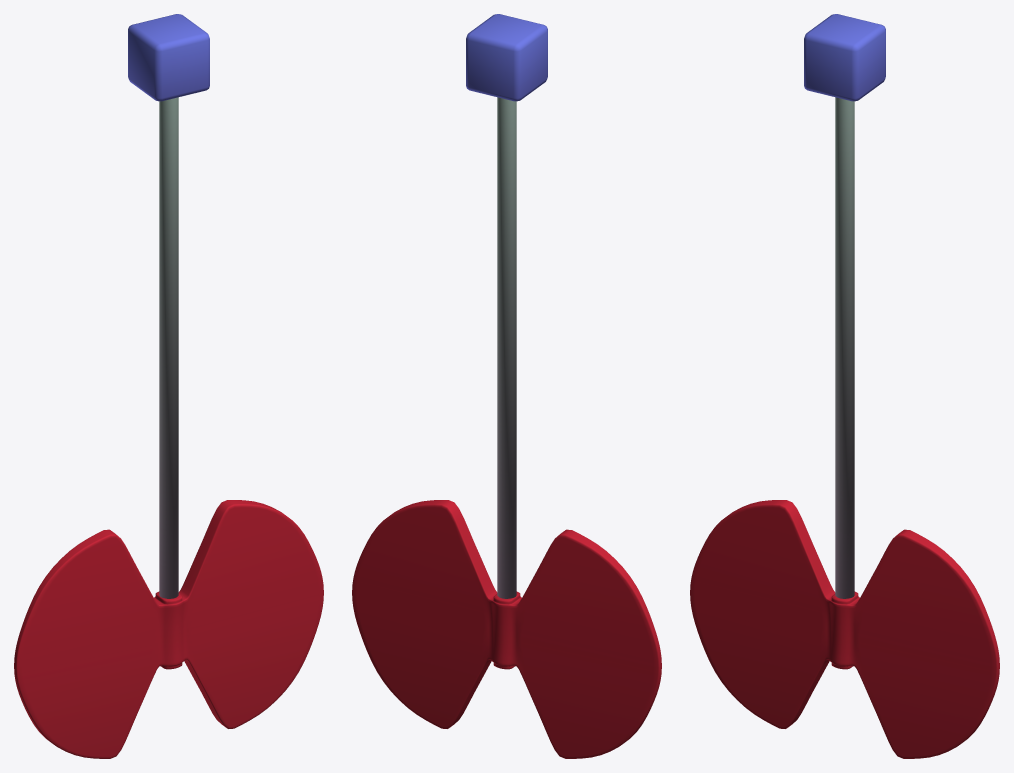
Rendered from Obs_13.fbx.
3 renders of one model, left to right at view 1: azimuth 30°, elevation 25°; view 2: azimuth 150°, elevation 25°; view 3: azimuth 330°, elevation 25°, orthographic.
Parts seen in each view (by area): view 1: Obs_13_Axe_01, Obs_13_Axe, Obs_13_Top; view 2: Obs_13_Axe_01, Obs_13_Axe, Obs_13_Top; view 3: Obs_13_Axe_01, Obs_13_Axe, Obs_13_Top.
Boxes of the visible parts, left/top/right/bottom form: Obs_13_Axe_01: left=14, top=500, right=323, bottom=758; Obs_13_Axe: left=159, top=97, right=178, bottom=598; Obs_13_Top: left=128, top=14, right=209, bottom=101; Obs_13_Axe_01: left=352, top=500, right=661, bottom=758; Obs_13_Axe: left=497, top=97, right=516, bottom=598; Obs_13_Top: left=466, top=14, right=547, bottom=101; Obs_13_Axe_01: left=690, top=500, right=999, bottom=758; Obs_13_Axe: left=835, top=97, right=854, bottom=598; Obs_13_Top: left=804, top=14, right=885, bottom=101.
Size of the model in its own units: 2.81 by 6.21 by 0.5026.
